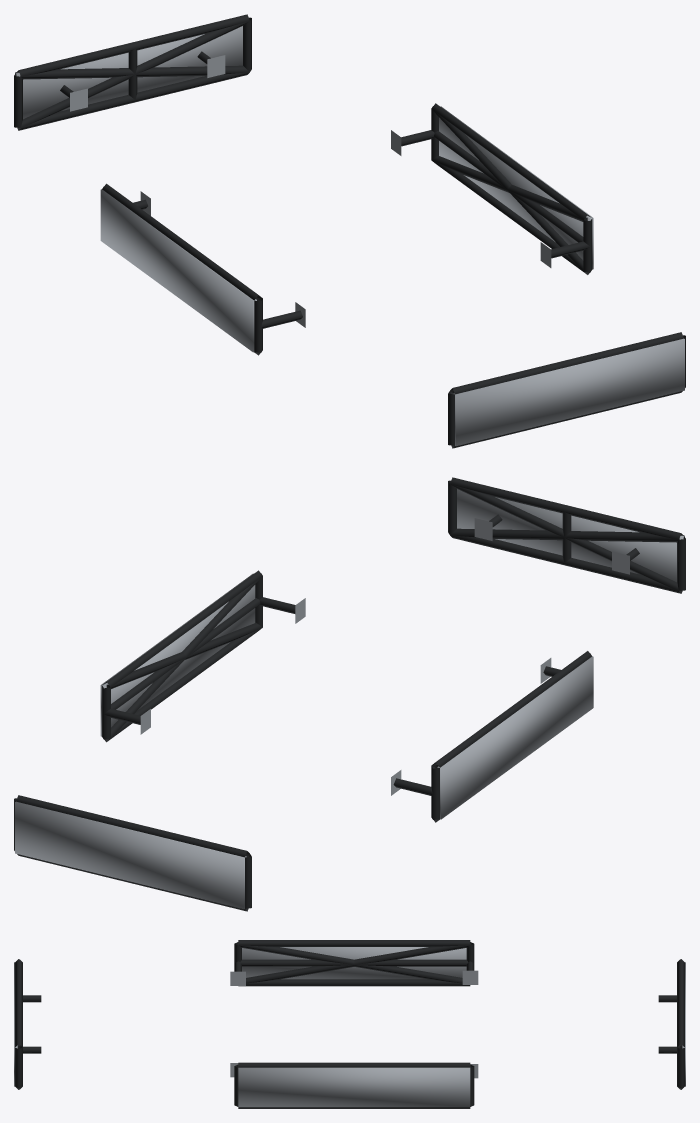
The model's file is vallon_braseiro_protecao.glb.
3 views of the same model, one above another, from view 1: azimuth 30°, elevation 25°; view 2: azimuth 150°, elevation 25°; view 3: azimuth 270°, elevation 25° (orthographic). The views are drawn at different scales.
Parts seen in each view (by area): view 1: Protection_front_Level3_Details, Protection_left_Level3_Details, Protection_rear_Level1_Details, Protection_rear_Level3_Details, Protection_right_Level1_Details, Protection_rear_Level2_Details, Protection_right_Level2_Details, Protection_right_Level3_Details, Protection_front_Level1_Details, Protection_left_Level1_Details; view 2: Protection_rear_Level3_Details, Protection_left_Level3_Details, Protection_front_Level1_Details, Protection_front_Level3_Details, Protection_right_Level1_Details, Protection_front_Level2_Details, Protection_right_Level2_Details, Protection_right_Level3_Details, Protection_left_Level1_Details, Protection_rear_Level1_Details; view 3: Protection_right_Level3_Details, Protection_left_Level2_Details, Protection_left_Level1_Details, Protection_left_Level3_Details, Protection_right_Level1_Details, Protection_rear_Level1_Details, Protection_front_Level1_Details.
Boxes of the visible parts, x1=… form: Protection_front_Level3_Details: x1=453, y1=338, x2=684, y2=446; Protection_left_Level3_Details: x1=100, y1=189, x2=256, y2=352; Protection_rear_Level1_Details: x1=14, y1=14, x2=251, y2=130; Protection_rear_Level3_Details: x1=15, y1=26, x2=242, y2=119; Protection_right_Level1_Details: x1=391, y1=103, x2=592, y2=274; Protection_rear_Level2_Details: x1=16, y1=21, x2=249, y2=129; Protection_right_Level2_Details: x1=431, y1=109, x2=591, y2=274; Protection_right_Level3_Details: x1=439, y1=106, x2=593, y2=269; Protection_front_Level1_Details: x1=448, y1=332, x2=685, y2=448; Protection_left_Level1_Details: x1=102, y1=183, x2=305, y2=355; Protection_rear_Level3_Details: x1=15, y1=801, x2=246, y2=909; Protection_left_Level3_Details: x1=437, y1=656, x2=593, y2=819; Protection_front_Level1_Details: x1=448, y1=477, x2=685, y2=593; Protection_front_Level3_Details: x1=457, y1=489, x2=684, y2=582; Protection_right_Level1_Details: x1=102, y1=570, x2=305, y2=742; Protection_front_Level2_Details: x1=450, y1=484, x2=683, y2=592; Protection_right_Level2_Details: x1=103, y1=576, x2=262, y2=741; Protection_right_Level3_Details: x1=100, y1=573, x2=255, y2=736; Protection_left_Level1_Details: x1=391, y1=651, x2=592, y2=822; Protection_rear_Level1_Details: x1=14, y1=795, x2=251, y2=911; Protection_right_Level3_Details: x1=238, y1=1067, x2=470, y2=1107; Protection_left_Level2_Details: x1=238, y1=942, x2=470, y2=983; Protection_left_Level1_Details: x1=230, y1=940, x2=478, y2=986; Protection_left_Level3_Details: x1=242, y1=947, x2=466, y2=979; Protection_right_Level1_Details: x1=230, y1=1062, x2=478, y2=1108; Protection_rear_Level1_Details: x1=658, y1=959, x2=684, y2=1089; Protection_front_Level1_Details: x1=15, y1=959, x2=41, y2=1089.
Bounding box in the file's own units: 2.08 × 0.354 × 4.66.
Materials: 1 (1 with a texture image).
